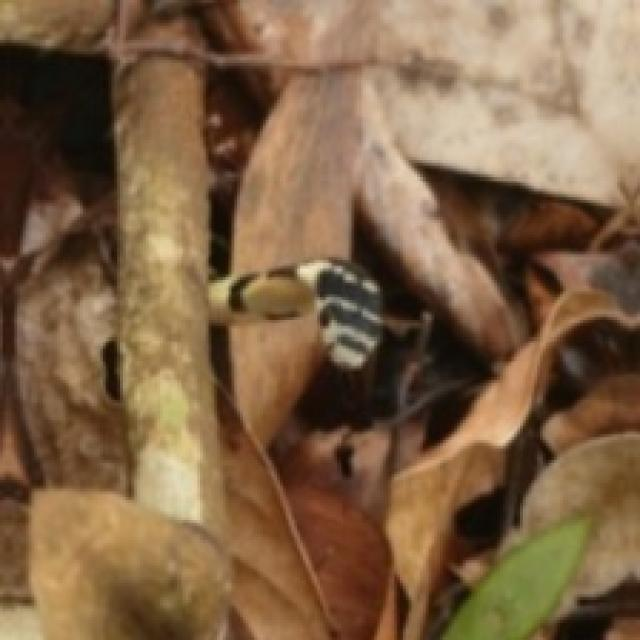king cobra: (209, 260, 380, 369)
